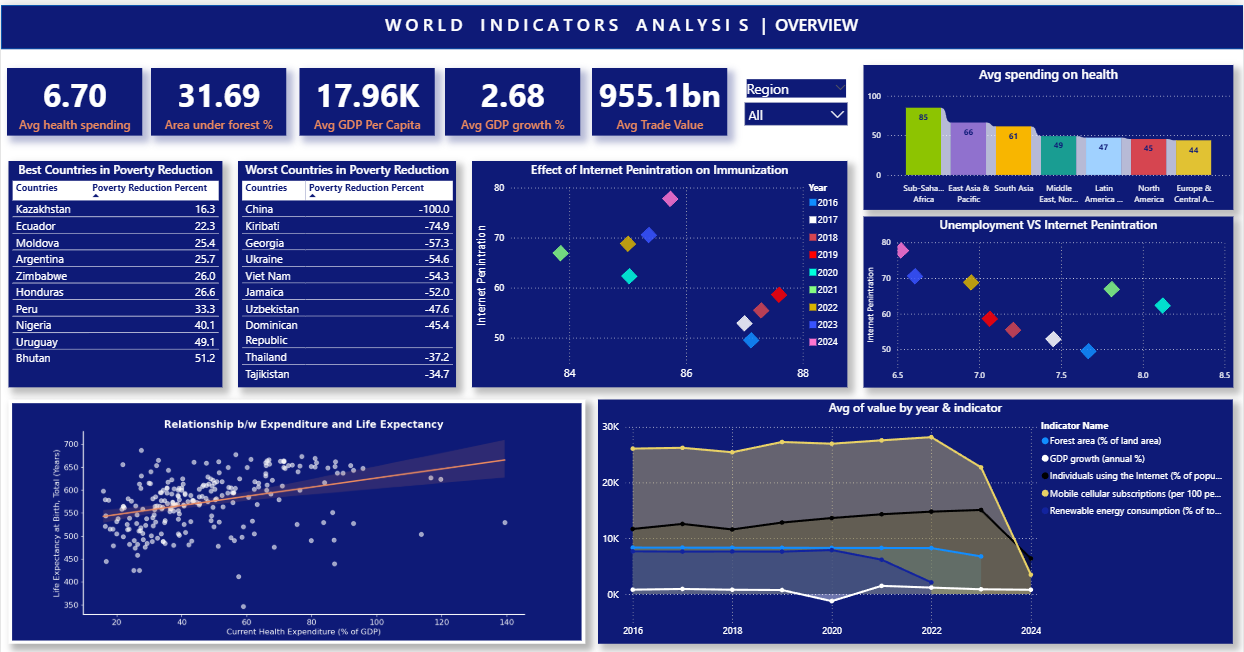

The dashboard page shown, as its layout file describes it:
{"tool":"powerbi","page":{"name":"Report","canvas":[1800,950],"ordinal":0},"visuals":[{"type":"shape","box":[0,0,2000,64],"z":0},{"type":"textbox","box":[448.8,0,902.5,85],"z":1000},{"type":"card","fields":{"Values":["Avg(Economic.value)"]},"box":[432,91.3,196,98],"z":2000},{"type":"slicer","fields":{"Values":["Economic.region"]},"box":[1068,101.3,170,80],"z":3000},{"type":"card","fields":{"Values":["Avg(Health.value)"]},"box":[8,91.3,196,98],"z":4000},{"type":"columnChart","title":"Avg spending on health","fields":{"Category":["Health.region"],"Y":["Avg(Health.value)"]},"box":[1250,86,536,210],"z":5000},{"type":"card","fields":{"Values":["Avg(Economic.value)"]},"box":[644,91.3,196,98],"z":6000},{"type":"lineChart","title":"Avg of value by year & indicator","fields":{"Category":["LINE CHART.year"],"Y":["Sum(LINE CHART.value)"],"Series":["LINE CHART.indicator_name"]},"box":[866,571.3,920,354],"z":7000},{"type":"card","fields":{"Values":["Avg(Environment.value)"]},"box":[218,91.3,196,98],"z":8000},{"type":"tableEx","title":"Worst Countries in Poverty Reduction","fields":{"Values":["Measure_table.Poverty Reduction Percent"]},"box":[344.4,226.7,315.6,326.7],"z":9000},{"type":"tableEx","title":"Best Countries in Poverty Reduction","fields":{"Values":["Measure_table.Poverty Reduction Percent"]},"box":[11.1,226.7,304.4,326.7],"z":10000},{"type":"scatterChart","title":"Unemployment VS Internet Penintration","fields":{"Category":["SCATTER PLOT.year"],"Series":["SCATTER PLOT.year"],"X":["Measure_table.Youth Unemployment Rate"],"Y":["Measure_table.Internet Penintration"]},"box":[1250,306,536,248],"z":11000},{"type":"card","fields":{"Values":["Avg(Trade.value)"]},"box":[856,91.3,196,98],"z":12000},{"type":"scatterChart","title":"Effect of Internet Penintration on Immunization","fields":{"X":["Measure_table.Immunization Kids"],"Y":["Measure_table.Internet Penintration"],"Category":["SCATTER PLOT.year"],"Series":["SCATTER PLOT.year"]},"box":[682,226,544,328],"z":13000},{"type":"pythonVisual","fields":{"Values":["SCATTER PLOT.country_value","SCATTER PLOT.indicator_name","Sum(SCATTER PLOT.year)"]},"box":[12,572,828,354],"z":13001}]}

Visuals, with their boxes in screenshot pixels (x1, y1, x2, y2), scaled from the page's 1800x950 canvas onto the 1244x652 screenshot:
shape: (0, 0, 1243, 44)
textbox: (310, 0, 934, 58)
card - Avg(Economic.value): (299, 63, 434, 130)
slicer - Economic.region: (738, 70, 856, 124)
card - Avg(Health.value): (6, 63, 141, 130)
"Avg spending on health" columnChart: (864, 59, 1234, 203)
card - Avg(Economic.value): (445, 63, 581, 130)
"Avg of value by year & indicator" lineChart: (599, 392, 1234, 635)
card - Avg(Environment.value): (151, 63, 286, 130)
"Worst Countries in Poverty Reduction" tableEx: (238, 156, 456, 380)
"Best Countries in Poverty Reduction" tableEx: (8, 156, 218, 380)
"Unemployment VS Internet Penintration" scatterChart: (864, 210, 1234, 380)
card - Avg(Trade.value): (592, 63, 727, 130)
"Effect of Internet Penintration on Immunization" scatterChart: (471, 155, 847, 380)
pythonVisual - SCATTER PLOT.country_value x SCATTER PLOT.indicator_name: (8, 393, 581, 636)
